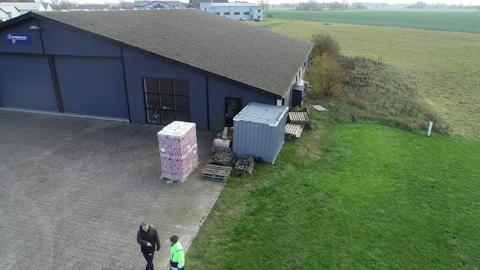RockwoolPallet: (156, 119, 199, 182)
